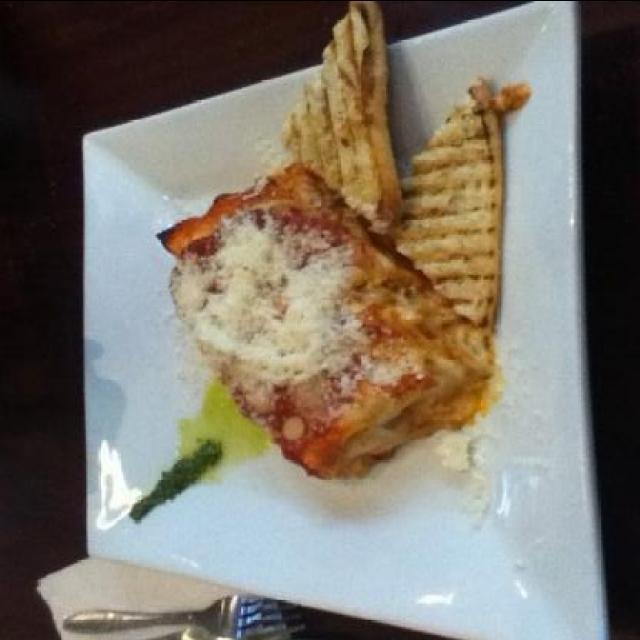Lasagna: (170, 221, 433, 499)
